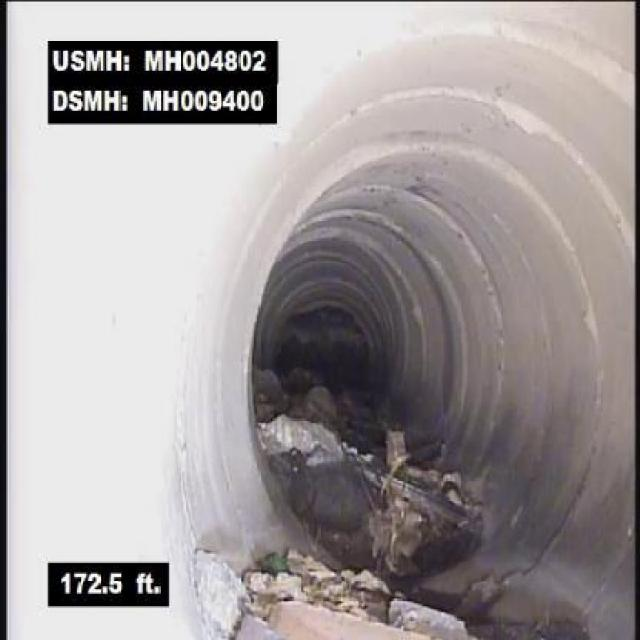Obstacle: (248, 418, 512, 580), (186, 540, 477, 638)
